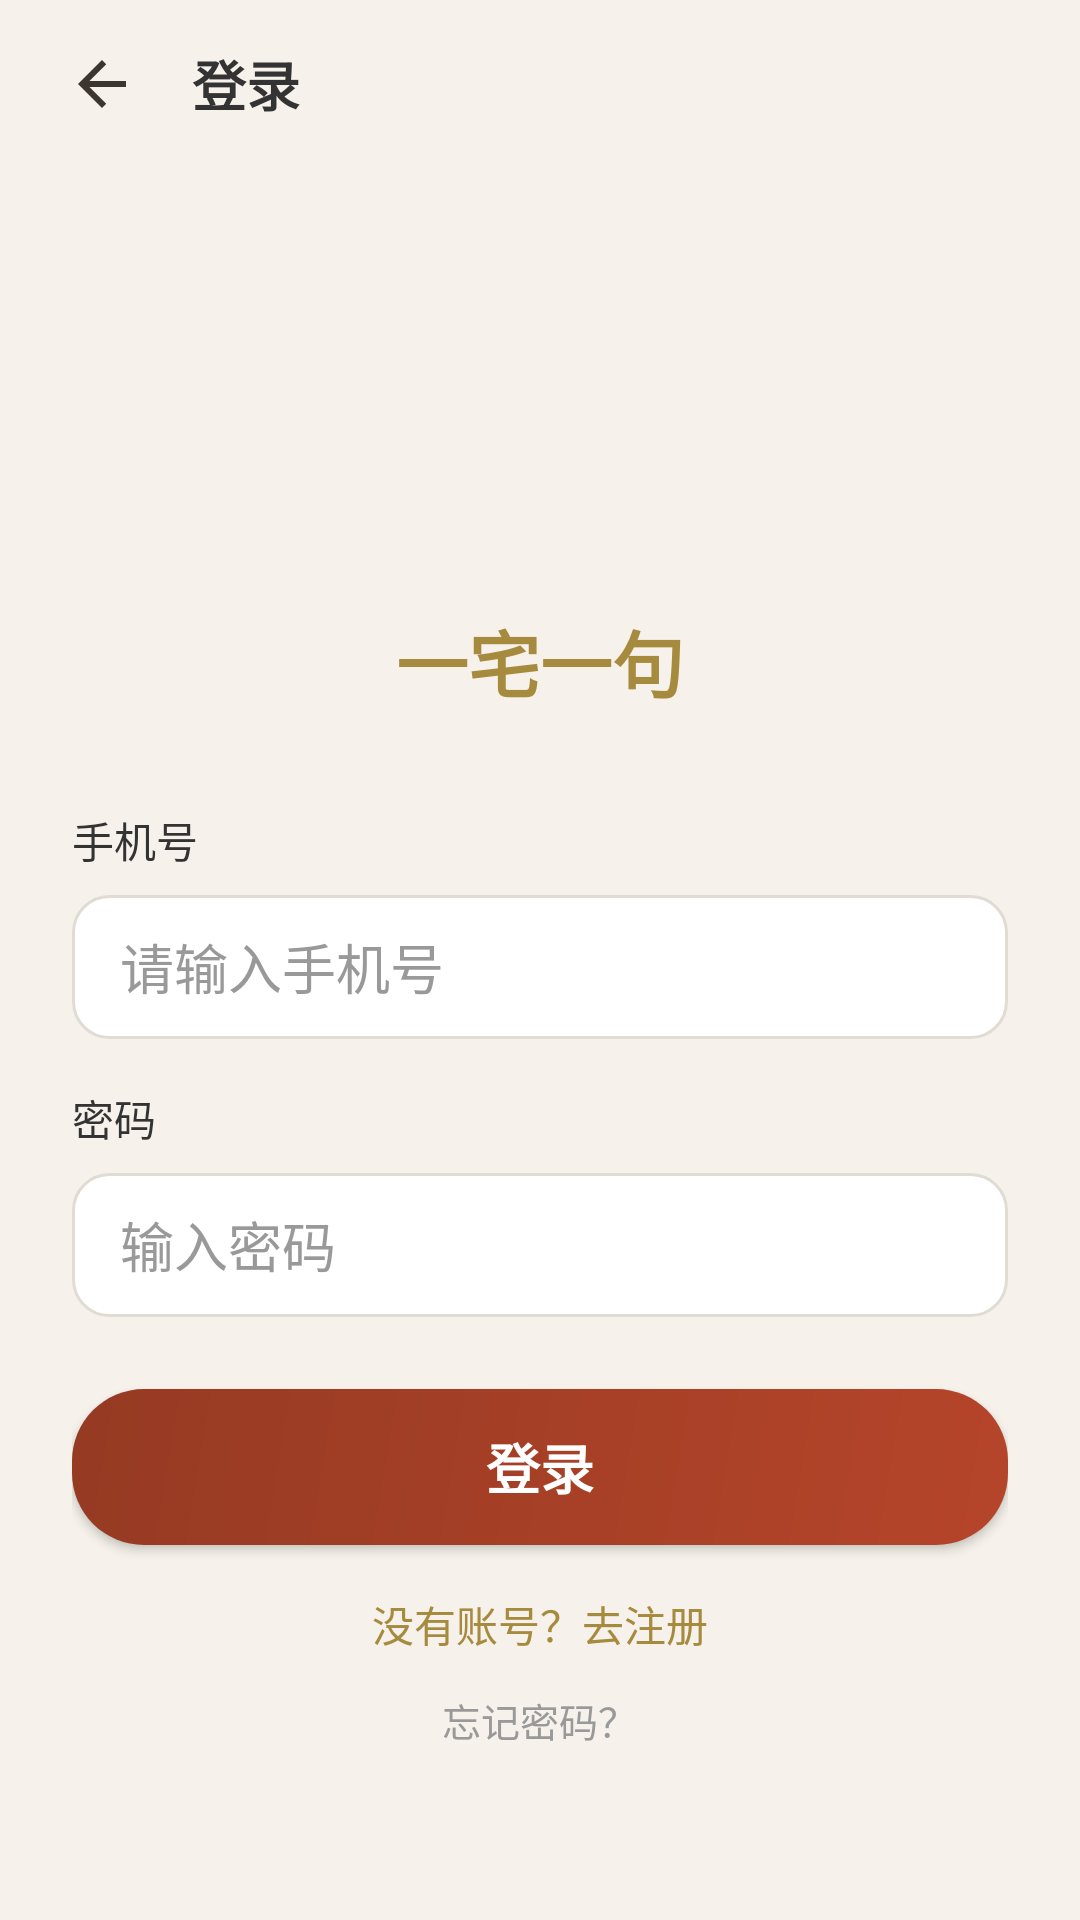

Icons on this 1080px x 1920px Android screen, each with the point to tap as point (x, y):
返回: point (102, 84)
